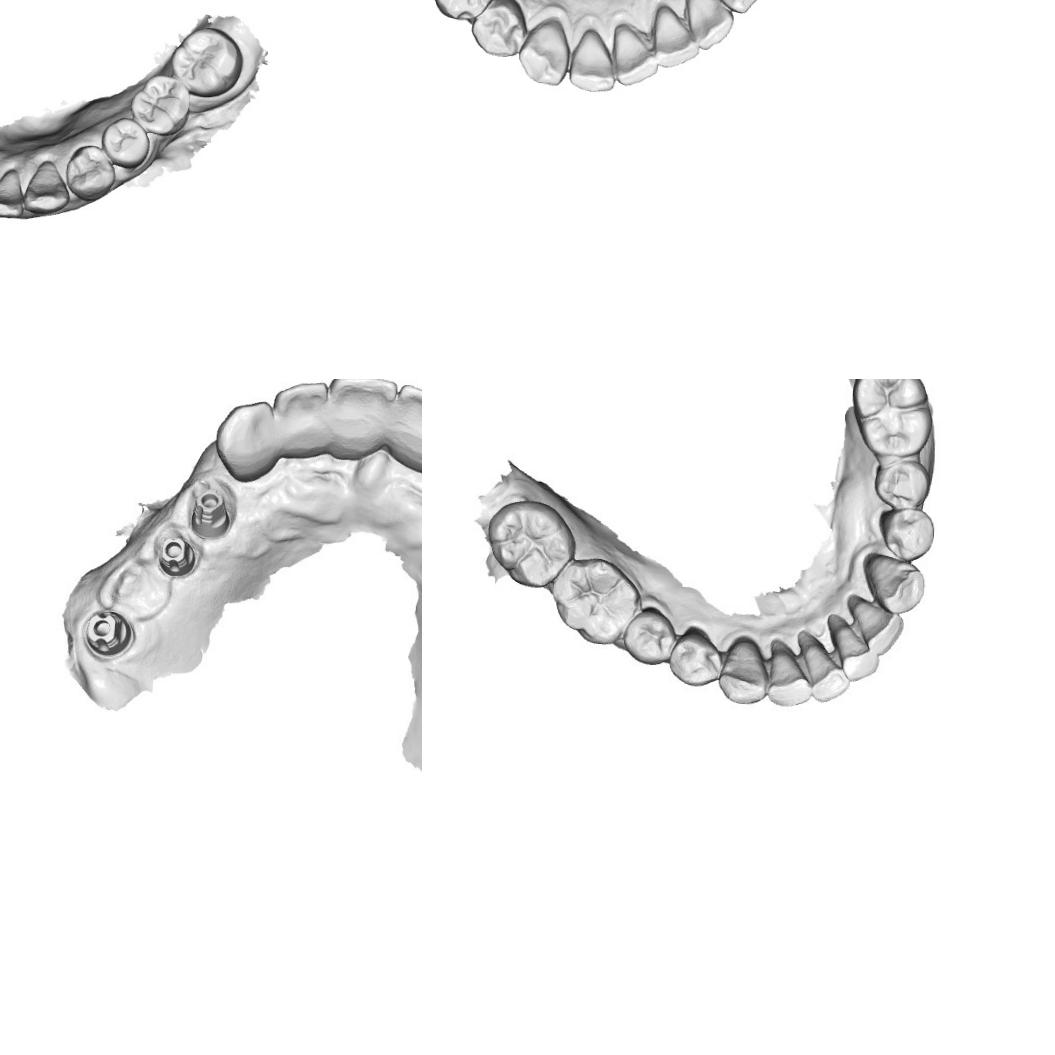canine: (210, 398, 280, 485), (713, 638, 768, 706), (518, 14, 568, 88), (862, 550, 922, 610), (22, 158, 70, 217), (704, 0, 767, 15)
implant: (76, 602, 138, 658), (192, 482, 234, 542), (157, 523, 198, 578)
incisor: (324, 379, 399, 455), (268, 379, 333, 449), (610, 21, 661, 88), (649, 3, 700, 70), (566, 27, 616, 95), (846, 596, 905, 652), (800, 631, 846, 699), (766, 638, 812, 704), (681, 0, 735, 51), (832, 617, 880, 674), (392, 382, 422, 472), (0, 169, 25, 221)
molar: (550, 552, 636, 650), (484, 496, 572, 587), (848, 379, 938, 460), (168, 24, 244, 97), (128, 73, 190, 136)
premolar: (624, 604, 678, 670), (668, 626, 721, 690), (471, 0, 527, 60), (877, 503, 936, 559), (62, 142, 116, 198), (876, 457, 932, 508), (100, 118, 150, 170), (431, 0, 494, 27)
